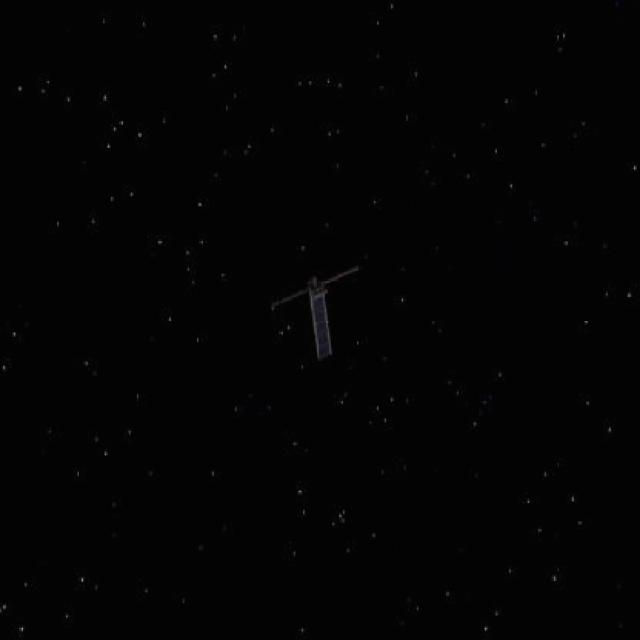medium_debris: (255, 252, 363, 367)
